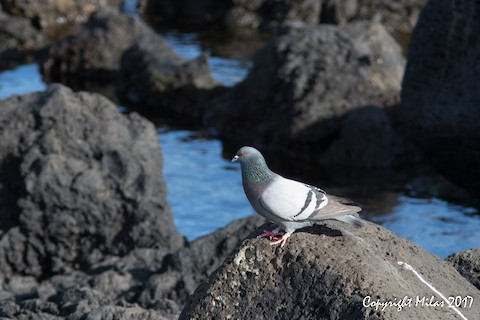pigeon: (230, 141, 367, 246)
